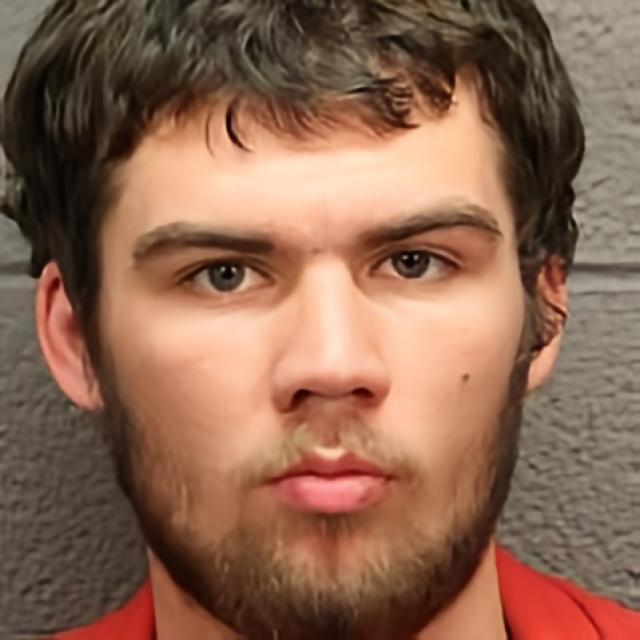neutral: (104, 79, 524, 624)
